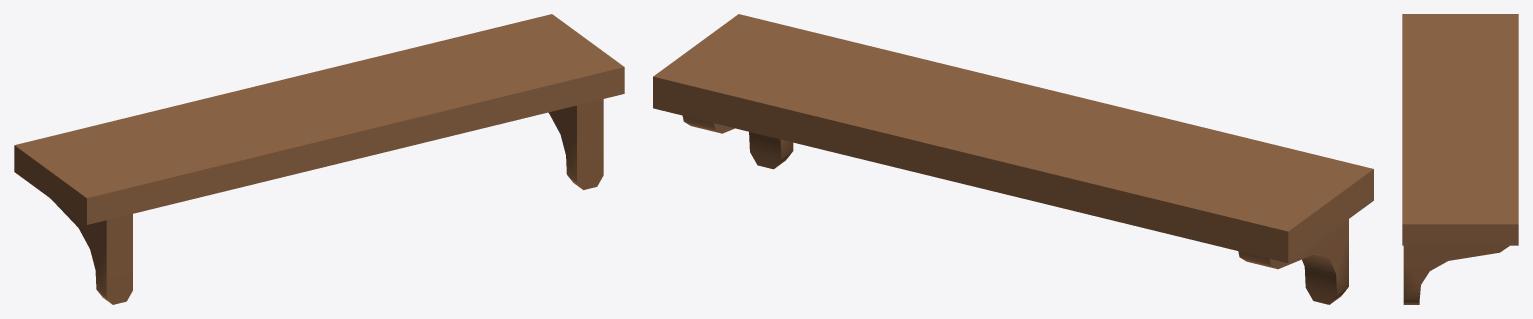
Rendered from WallShelf.fbx.
The picture shows the model from 3 angles, left to right: view 1: azimuth 30°, elevation 25°; view 2: azimuth 150°, elevation 25°; view 3: azimuth 270°, elevation 25°; orthographic projection. The views are drawn at different scales.
Parts seen in each view (by area): view 1: WallShelf; view 2: WallShelf; view 3: WallShelf.
Boxes of the visible parts, left/top/right/bottom form: WallShelf: left=14, top=14, right=624, bottom=304; WallShelf: left=653, top=14, right=1373, bottom=304; WallShelf: left=1402, top=14, right=1518, bottom=304.
Bounding box in the file's own units: 120 × 24.26 × 28.
